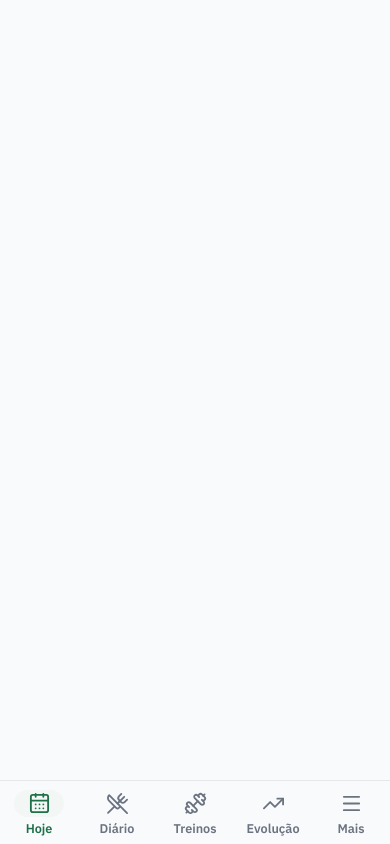
Test: the Mais sheet › keeps the setup screens one tap away rather than dropping them
Click the button "Mais" at (351, 812), box [312,781,389,843]
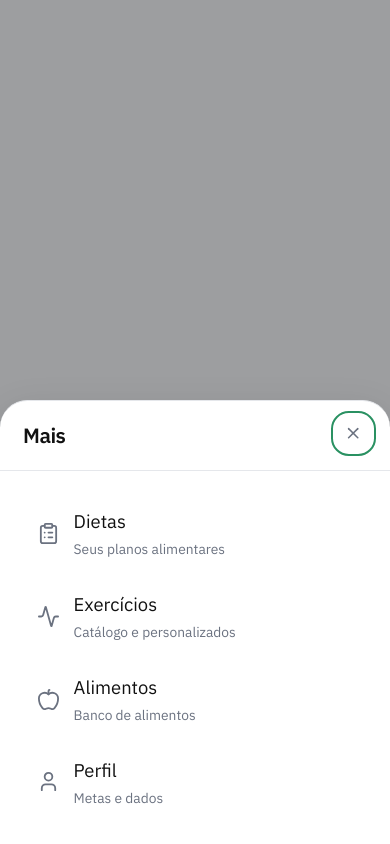
Now the link "Dietas Seus planos alimentares" is shown, box [37,509,225,558]
Now the link "Exercícios Catálogo e personalizados" is shown, box [37,592,236,641]
Now the link "Alimentos Banco de alimentos" is shown, box [37,675,196,724]
